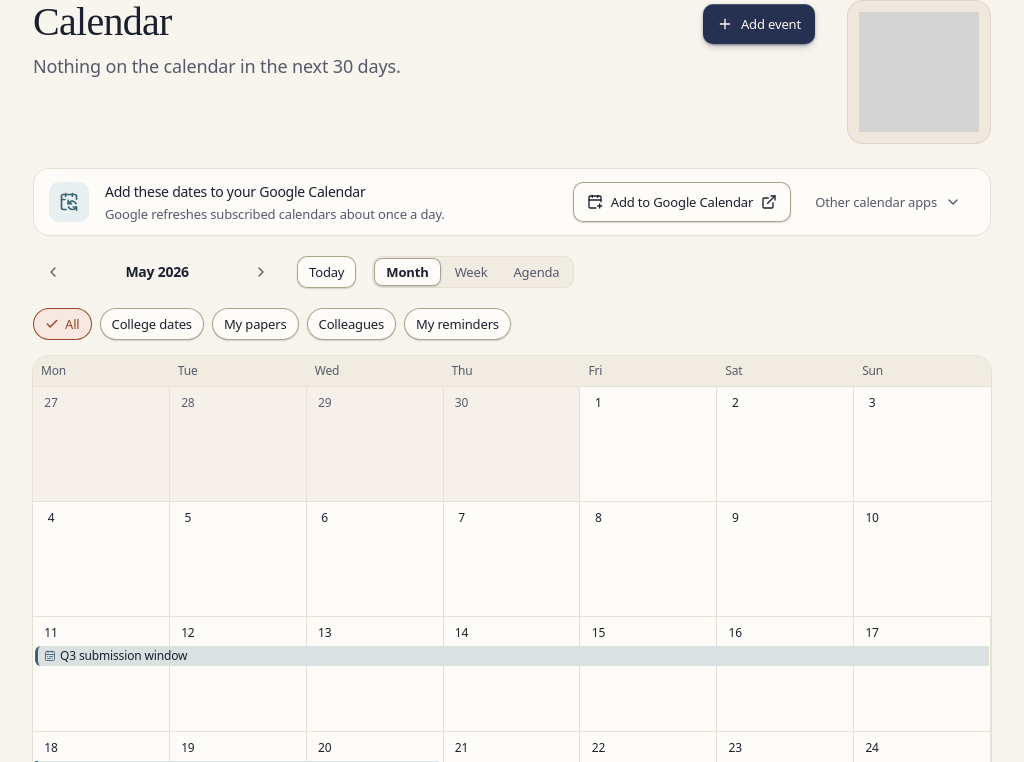
it: The event sheet › offers the owner Edit and Delete
What coordinates should you click on to do the following:
click the 1st button "Q3 submission window"
I would click on:
 (124, 656)
Its box is [35,646,989,666].
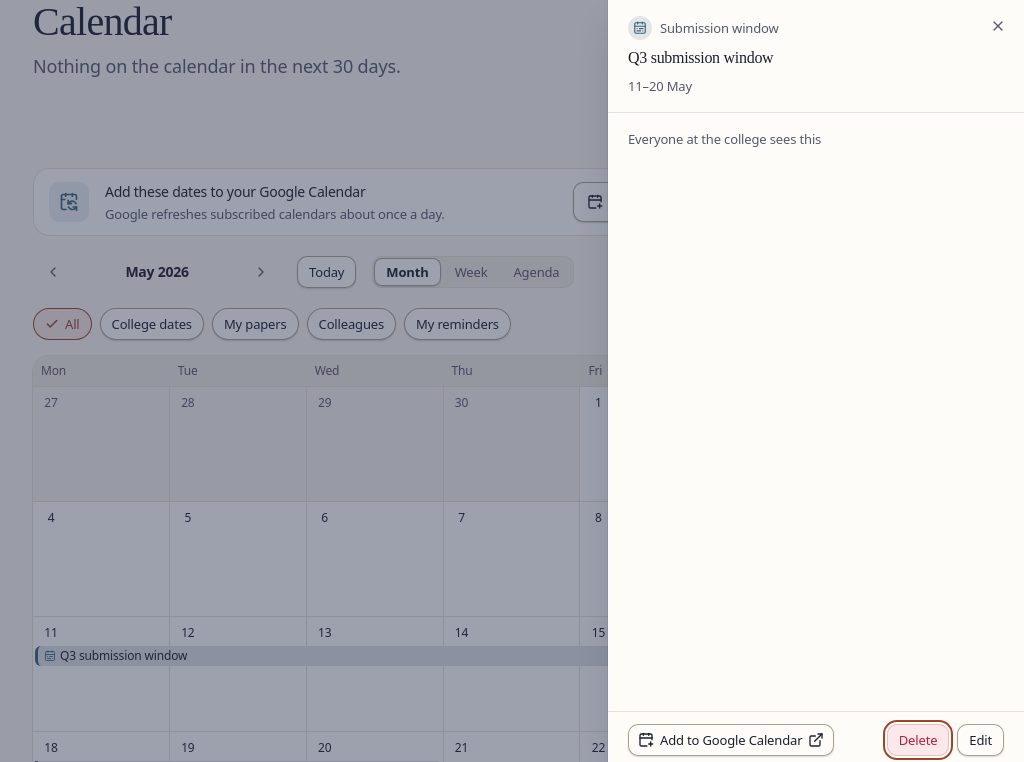
Check: the button "Edit" is shown, box [957,724,1004,756]
Check: the button "Delete" is shown, box [887,724,949,756]
